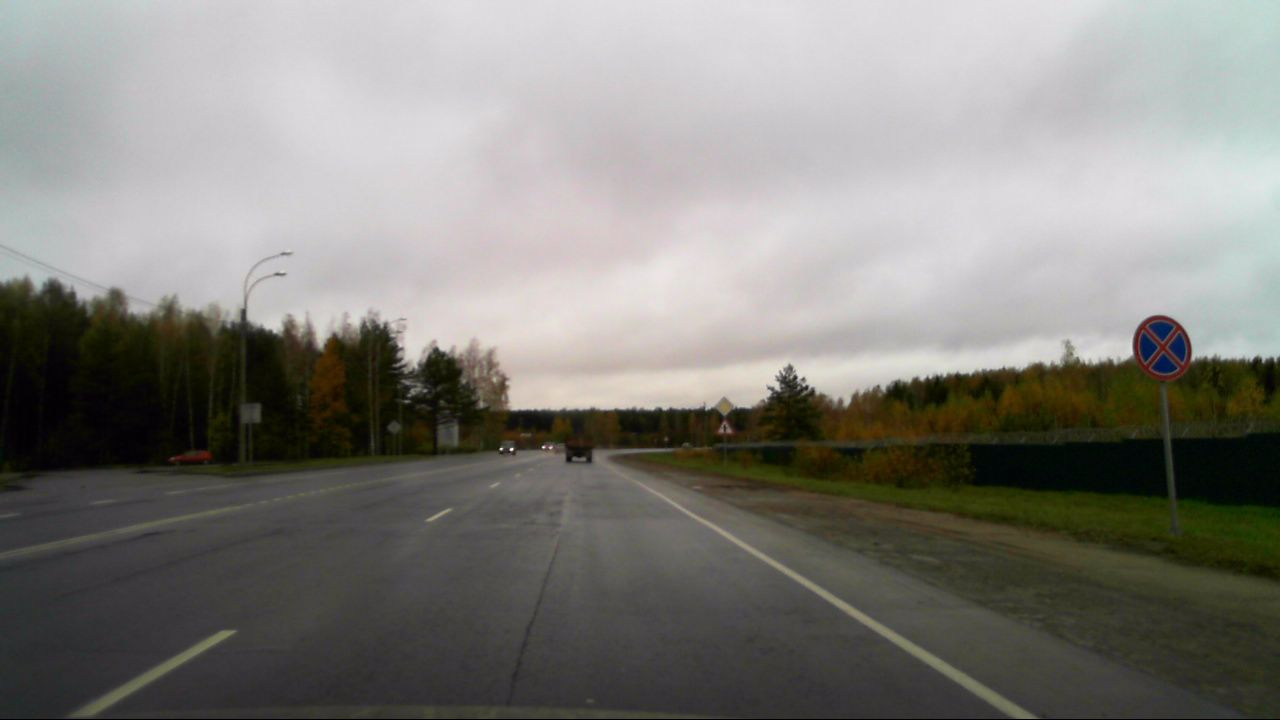No Parking: (1132, 313, 1193, 382)
